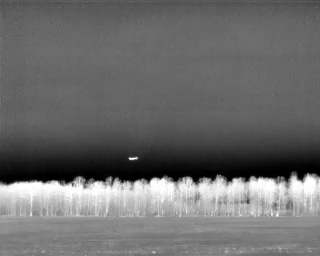DRONE: (124, 152, 143, 166)
